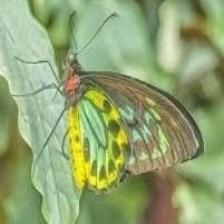butterfly: (64, 57, 204, 190)
